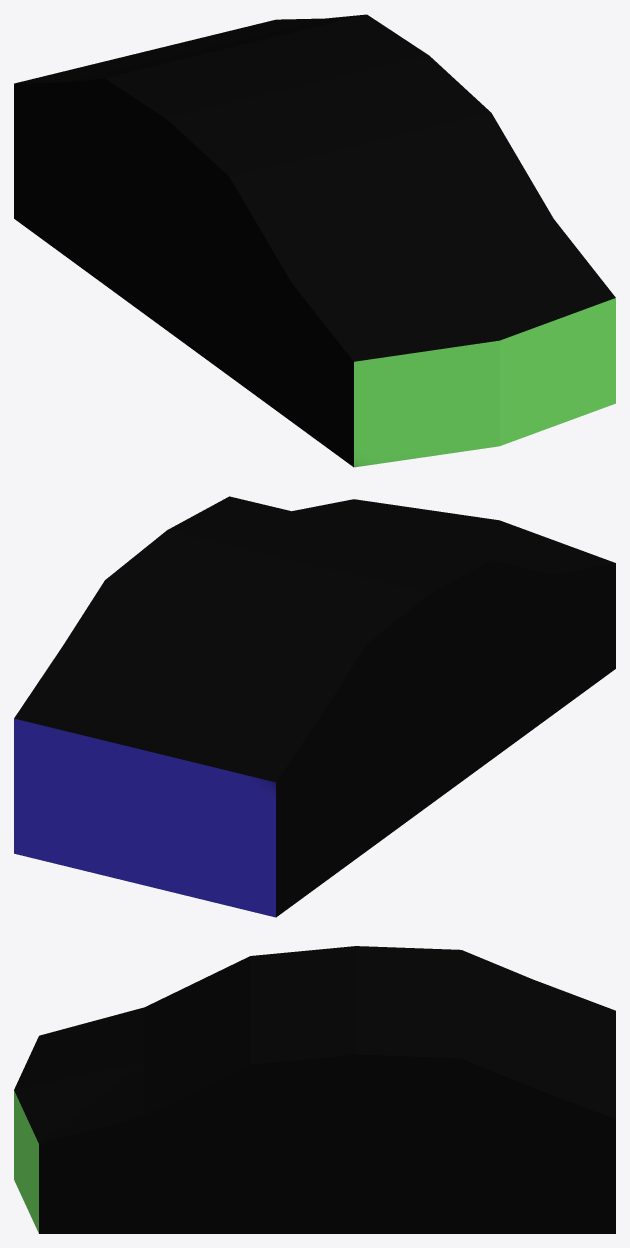
File: player_Body.obj
3 views of the same model, one above another, from view 1: azimuth 30°, elevation 25°; view 2: azimuth 150°, elevation 25°; view 3: azimuth 270°, elevation 25° (orthographic). The views are drawn at different scales.
Parts seen in each view (by area): view 1: 立方体; view 2: 立方体; view 3: 立方体.
Part boxes in pixels (x1=…): 立方体: x1=14, y1=14, x2=615, y2=467; 立方体: x1=14, y1=496, x2=615, y2=917; 立方体: x1=14, y1=946, x2=615, y2=1233.
Bounding box in the file's own units: 2 × 1.54 × 4.69.
1 material, 1 textured.
